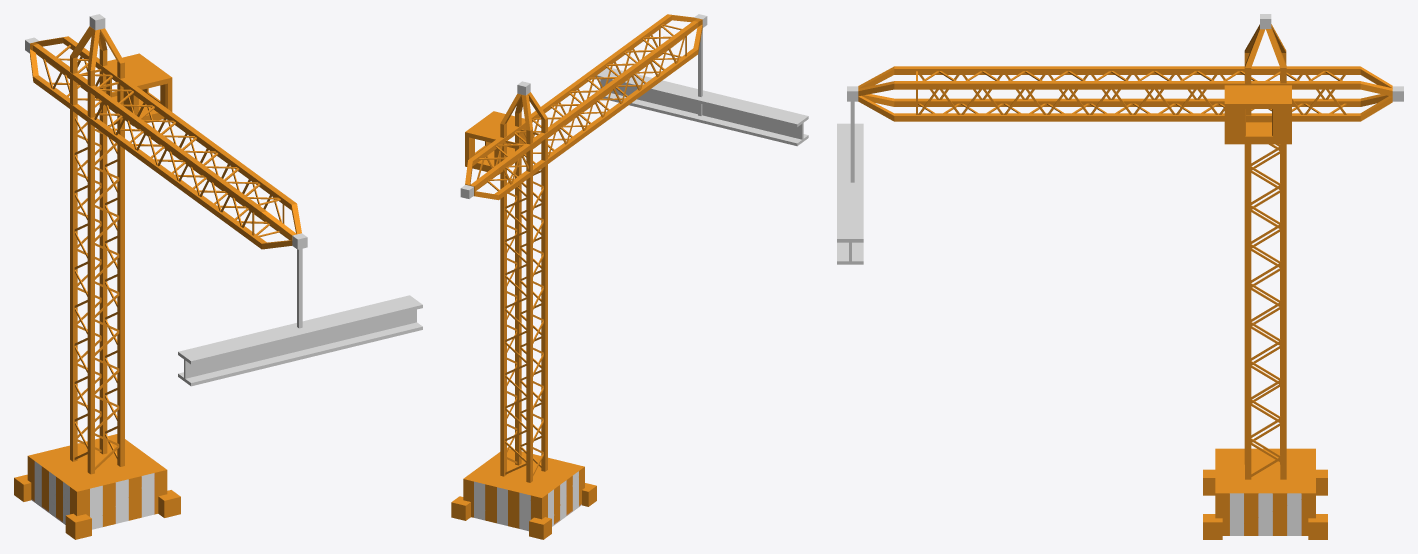
The model's file is Crane.fbx.
3 renders of one model, left to right at view 1: azimuth 30°, elevation 25°; view 2: azimuth 150°, elevation 25°; view 3: azimuth 270°, elevation 25°, orthographic. The views are drawn at different scales.
Parts seen in each view (by area): view 1: Cube.128, Cube.132, Cube.139, Cube.125, Cube.138, Cube.124, Cube.002; view 2: Cube.128, Cube.132, Cube.125, Cube.139, Cube.138, Cube.126; view 3: Cube.132, Cube.128, Cube.125, Cube.138, Cube.139.
Boxes of the visible parts, x1=… form: Cube.128: x1=70, y1=26, x2=124, y2=474; Cube.132: x1=30, y1=36, x2=301, y2=249; Cube.139: x1=178, y1=295, x2=422, y2=386; Cube.125: x1=27, y1=434, x2=167, y2=529; Cube.138: x1=106, y1=53, x2=172, y2=126; Cube.124: x1=65, y1=513, x2=91, y2=539; Cube.002: x1=158, y1=490, x2=180, y2=517; Cube.128: x1=500, y1=92, x2=547, y2=482; Cube.132: x1=465, y1=14, x2=702, y2=200; Cube.125: x1=463, y1=447, x2=584, y2=531; Cube.139: x1=595, y1=67, x2=808, y2=146; Cube.138: x1=465, y1=111, x2=526, y2=174; Cube.126: x1=529, y1=517, x2=551, y2=539; Cube.132: x1=858, y1=66, x2=1392, y2=121; Cube.128: x1=1244, y1=24, x2=1286, y2=479; Cube.125: x1=1215, y1=448, x2=1315, y2=535; Cube.138: x1=1224, y1=85, x2=1291, y2=144; Cube.139: x1=837, y1=123, x2=863, y2=264.
Bounding box in the file's own units: 6444 × 12947 × 13373.
